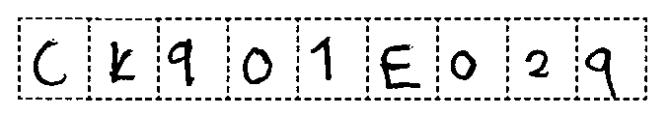0: (238, 44, 277, 88), (447, 47, 481, 83)
1: (307, 32, 344, 85)
2: (520, 45, 556, 85)
9: (583, 39, 626, 96), (164, 34, 204, 91)
C: (26, 34, 71, 92)
E: (374, 40, 430, 94)
K: (102, 37, 143, 87)
